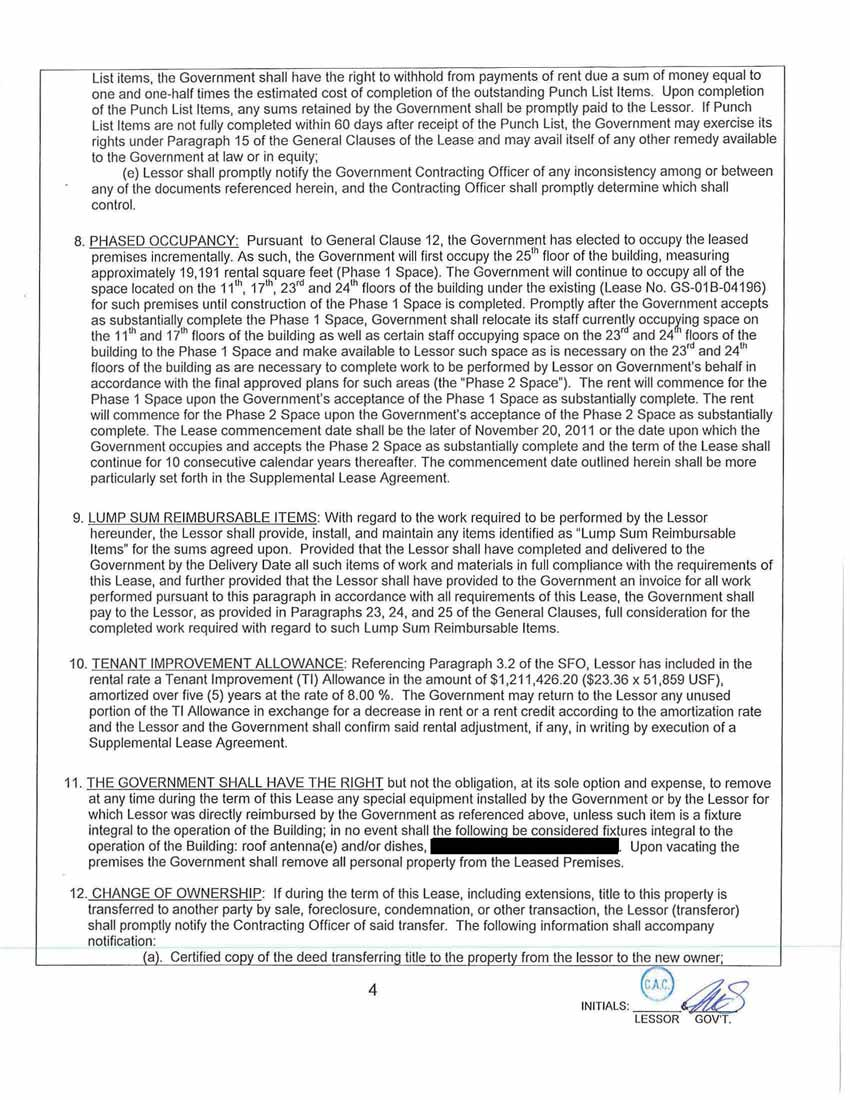handwritten: (677, 968, 760, 1013)
